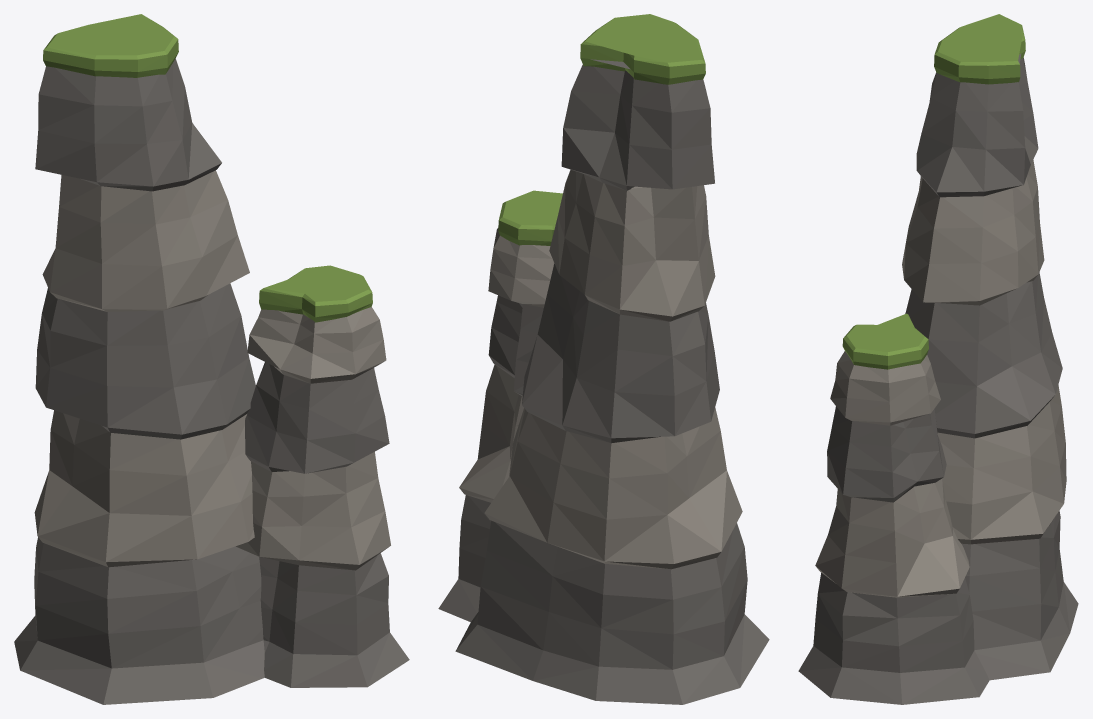
Rendered from ENV_Cliff_Peak.fbx.
3 renders of one model, left to right at view 1: azimuth 30°, elevation 25°; view 2: azimuth 150°, elevation 25°; view 3: azimuth 270°, elevation 25°, orthographic. The views are drawn at different scales.
Parts seen in each view (by area): view 1: Rock, Strata, Grass; view 2: Rock, Strata, Grass; view 3: Rock, Strata, Grass.
Part boxes in pixels (bbox=[...]): Rock: bbox=[14, 58, 409, 704]; Strata: bbox=[34, 170, 390, 570]; Grass: bbox=[43, 14, 372, 322]; Rock: bbox=[438, 59, 769, 704]; Strata: bbox=[459, 169, 742, 569]; Grass: bbox=[498, 14, 705, 245]; Rock: bbox=[798, 54, 1078, 704]; Strata: bbox=[815, 160, 1066, 597]; Grass: bbox=[842, 14, 1025, 369].
Size of the model in its own units: 32.73 by 60 by 27.1.
